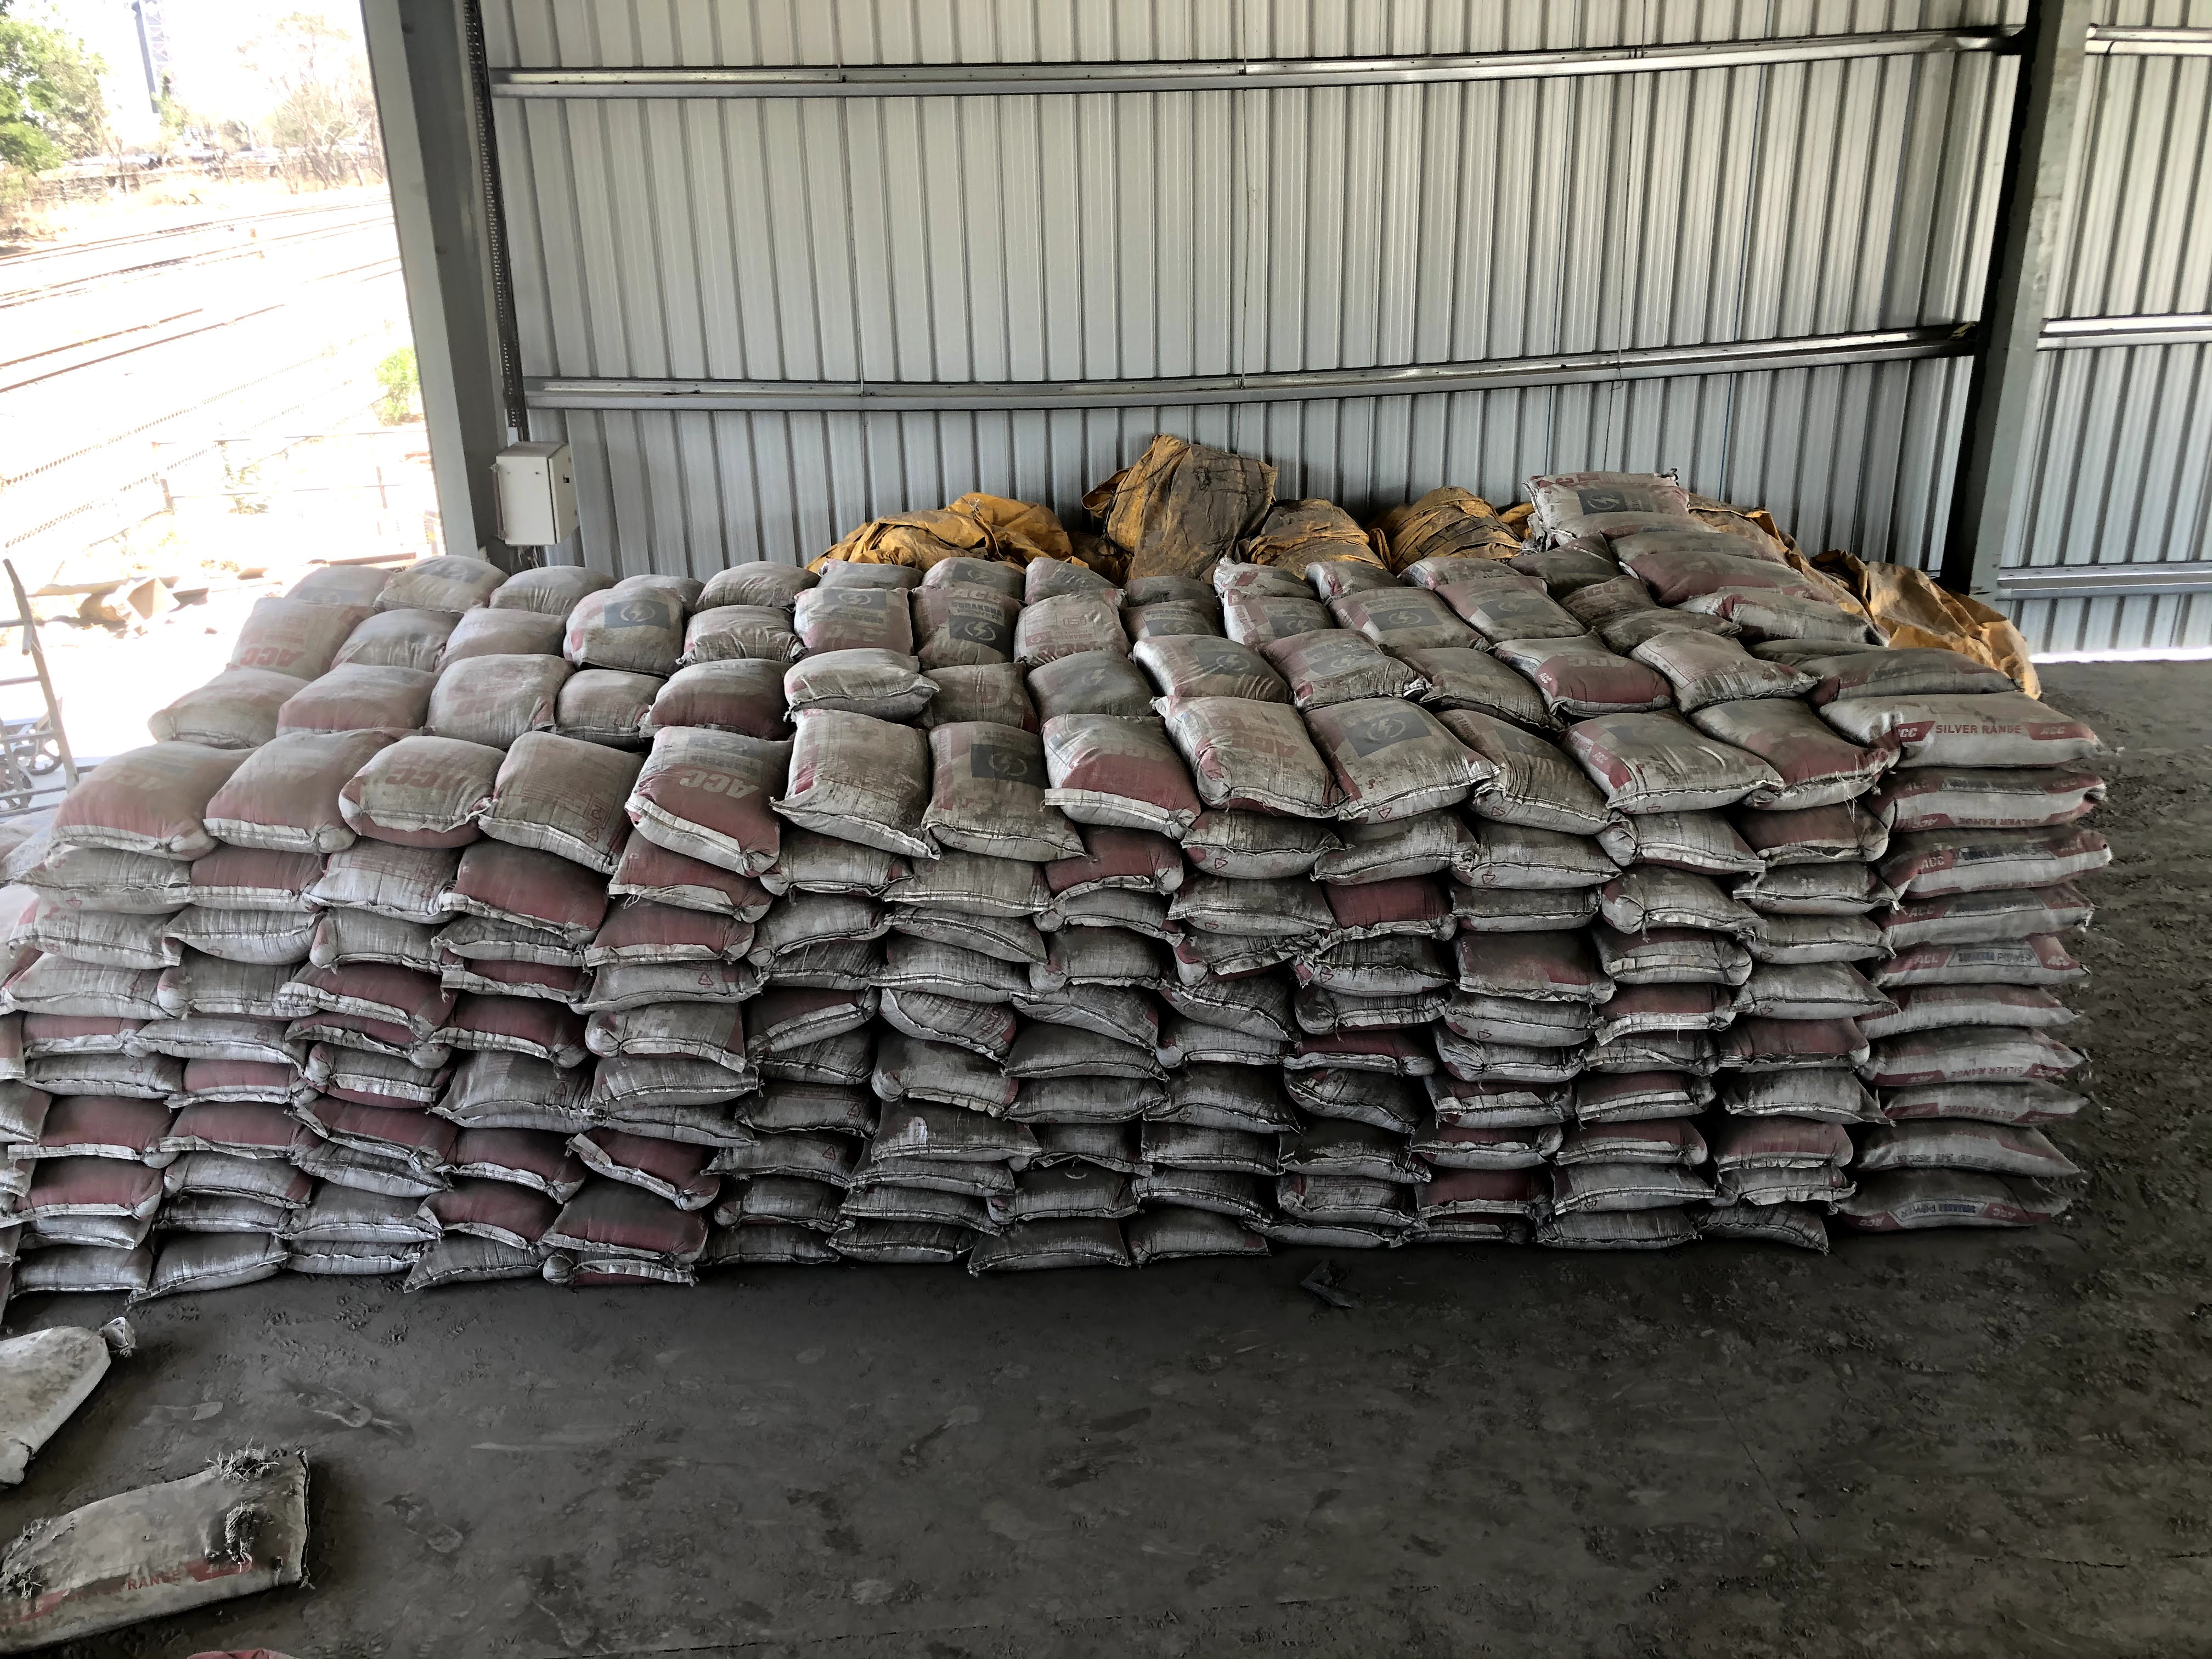cement bag: (1559, 507, 1743, 631), (770, 721, 927, 838), (226, 718, 369, 842), (475, 741, 637, 843), (1818, 697, 2073, 760), (1043, 718, 1170, 842), (1552, 723, 1757, 798), (1305, 685, 1467, 775), (1371, 631, 1548, 713), (927, 721, 1043, 842), (1170, 718, 1334, 803), (235, 589, 366, 694), (108, 727, 226, 842), (369, 718, 475, 843), (665, 718, 770, 838), (547, 575, 690, 657), (366, 584, 463, 694), (1437, 551, 1559, 631), (824, 559, 928, 645), (1630, 627, 1773, 685), (307, 664, 446, 721), (690, 575, 792, 650), (174, 657, 287, 721), (441, 652, 566, 709), (1141, 636, 1277, 688), (1209, 568, 1329, 626), (1033, 631, 1134, 697), (1329, 561, 1430, 626), (1757, 697, 1818, 798), (1521, 647, 1662, 688), (556, 666, 643, 732), (780, 657, 921, 697), (1277, 631, 1371, 688), (651, 657, 780, 699), (921, 655, 1036, 697), (1467, 723, 1552, 775), (932, 594, 1008, 650), (470, 603, 547, 657), (1036, 584, 1101, 627), (1003, 641, 1024, 660)
